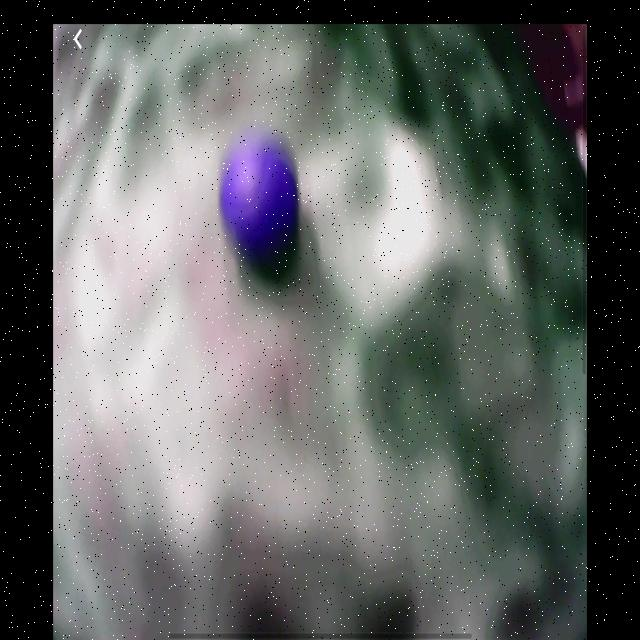ball: (220, 133, 301, 264)
